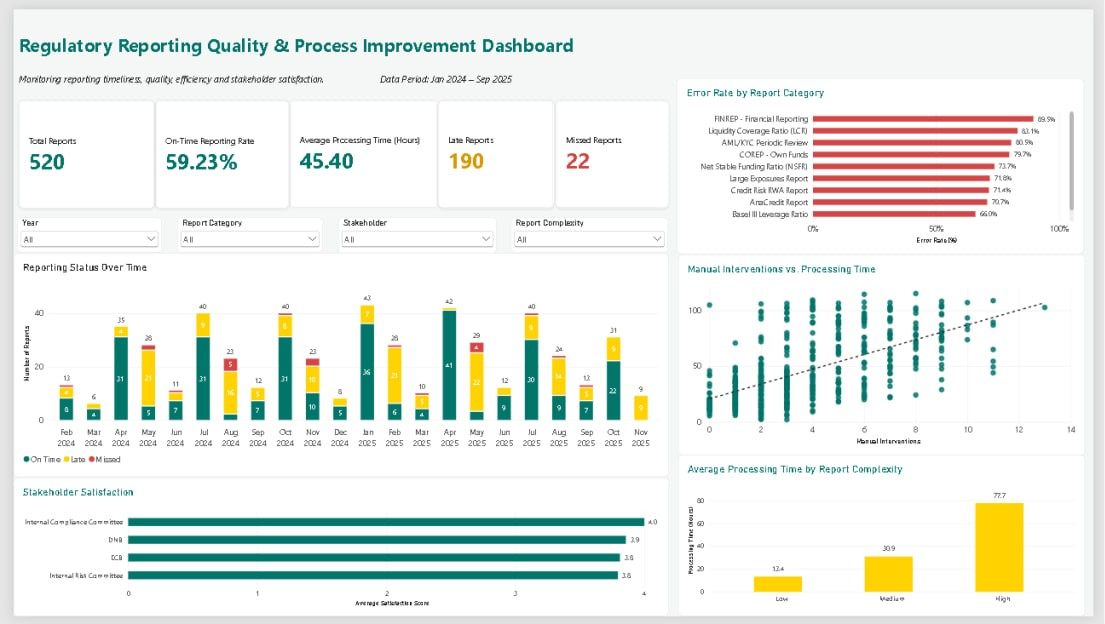

What the dashboard file says about the page in this screenshot:
{"tool":"powerbi","page":{"name":"Page 1","canvas":[1920,1080],"ordinal":0},"visuals":[{"type":"cardVisual","fields":{"Data":["regulatory_reporting_dataset.Missed Reports"]},"box":[962.5,160.4,202.1,193.1],"z":0},{"type":"cardVisual","fields":{"Data":["regulatory_reporting_dataset.Average Processing Time"]},"box":[490.3,160.4,263.5,193.1],"z":1000},{"type":"cardVisual","fields":{"Data":["regulatory_reporting_dataset.Total Reports"]},"box":[8.3,160.4,242,194],"z":2000},{"type":"cardVisual","fields":{"Data":["regulatory_reporting_dataset.On-Time Reporting Rate"]},"box":[251.3,160.4,238,194],"z":3000},{"type":"cardVisual","fields":{"Data":["regulatory_reporting_dataset.Late Reports"]},"box":[754.8,160.4,206.7,193.1],"z":4000},{"type":"columnChart","title":"Reporting Status Over Time","fields":{"Category":["DateTable.Month Year"],"Series":["regulatory_reporting_dataset.Status"],"Y":["regulatory_reporting_dataset.Total Reports"]},"box":[0,433.3,1164.6,397.9],"z":5000},{"type":"clusteredBarChart","title":"Error Rate by Report Category","fields":{"Category":["regulatory_reporting_dataset.Report_Category"],"Y":["regulatory_reporting_dataset.Error Rate"]},"box":[1179.2,121.7,722.9,312.5],"z":6000},{"type":"scatterChart","title":"Manual Interventions vs. Processing Time","fields":{"Category":["regulatory_reporting_dataset.Report_ID"],"X":["Avg(regulatory_reporting_dataset.Manual_Interventions)"],"Y":["Avg(regulatory_reporting_dataset.Processing_Time_Hours)"]},"box":[1181.1,435.8,722.6,356.6],"z":7000},{"type":"clusteredBarChart","title":"Stakeholder Satisfaction","fields":{"Category":["regulatory_reporting_dataset.Stakeholder"],"Y":["Avg(regulatory_reporting_dataset.Stakeholder_Satisfaction)"]},"box":[0,833.3,1164.6,245.8],"z":8000},{"type":"clusteredColumnChart","title":"Average Processing Time by Report Complexity","fields":{"Category":["regulatory_reporting_dataset.Report_Complexity"],"Y":["regulatory_reporting_dataset.Average Processing Time (Hours)"]},"box":[1181.1,792.5,722.6,286.8],"z":9000},{"type":"slicer","fields":{"Values":["DateTable.Year"]},"box":[7.5,369.8,256.6,62.3],"z":10000},{"type":"slicer","title":"Report Category","fields":{"Values":["regulatory_reporting_dataset.Report_Category"]},"box":[291.2,369.8,258.5,62.3],"z":11000},{"type":"slicer","fields":{"Values":["regulatory_reporting_dataset.Stakeholder"]},"box":[576.7,369.8,281.1,64.2],"z":12000},{"type":"slicer","title":"Report Complexity","fields":{"Values":["regulatory_reporting_dataset.Report_Complexity"]},"box":[884.9,369.8,279.2,62.3],"z":13000},{"type":"textbox","box":[8.3,20.8,1027.1,91.7],"z":14000},{"type":"textbox","box":[8.3,92.6,572.9,43.8],"z":15000},{"type":"textbox","box":[603.8,113.7,328.3,22.6],"z":16000}]}

Visuals, with their boxes in screenshot pixels (x1, y1, x2, y2), scaled from the page's 1920x1080 canvas onto the 1105x624 screenshot:
cardVisual - regulatory_reporting_dataset.Missed Reports: {"x1": 554, "y1": 93, "x2": 670, "y2": 204}
cardVisual - regulatory_reporting_dataset.Average Processing Time: {"x1": 282, "y1": 93, "x2": 434, "y2": 204}
cardVisual - regulatory_reporting_dataset.Total Reports: {"x1": 5, "y1": 93, "x2": 144, "y2": 205}
cardVisual - regulatory_reporting_dataset.On-Time Reporting Rate: {"x1": 145, "y1": 93, "x2": 282, "y2": 205}
cardVisual - regulatory_reporting_dataset.Late Reports: {"x1": 434, "y1": 93, "x2": 553, "y2": 204}
"Reporting Status Over Time" columnChart: {"x1": 0, "y1": 250, "x2": 670, "y2": 480}
"Error Rate by Report Category" clusteredBarChart: {"x1": 679, "y1": 70, "x2": 1095, "y2": 251}
"Manual Interventions vs. Processing Time" scatterChart: {"x1": 680, "y1": 252, "x2": 1096, "y2": 458}
"Stakeholder Satisfaction" clusteredBarChart: {"x1": 0, "y1": 481, "x2": 670, "y2": 623}
"Average Processing Time by Report Complexity" clusteredColumnChart: {"x1": 680, "y1": 458, "x2": 1096, "y2": 623}
slicer - DateTable.Year: {"x1": 4, "y1": 214, "x2": 152, "y2": 250}
"Report Category" slicer: {"x1": 168, "y1": 214, "x2": 316, "y2": 250}
slicer - regulatory_reporting_dataset.Stakeholder: {"x1": 332, "y1": 214, "x2": 494, "y2": 251}
"Report Complexity" slicer: {"x1": 509, "y1": 214, "x2": 670, "y2": 250}
textbox: {"x1": 5, "y1": 12, "x2": 596, "y2": 65}
textbox: {"x1": 5, "y1": 54, "x2": 334, "y2": 79}
textbox: {"x1": 347, "y1": 66, "x2": 536, "y2": 79}
